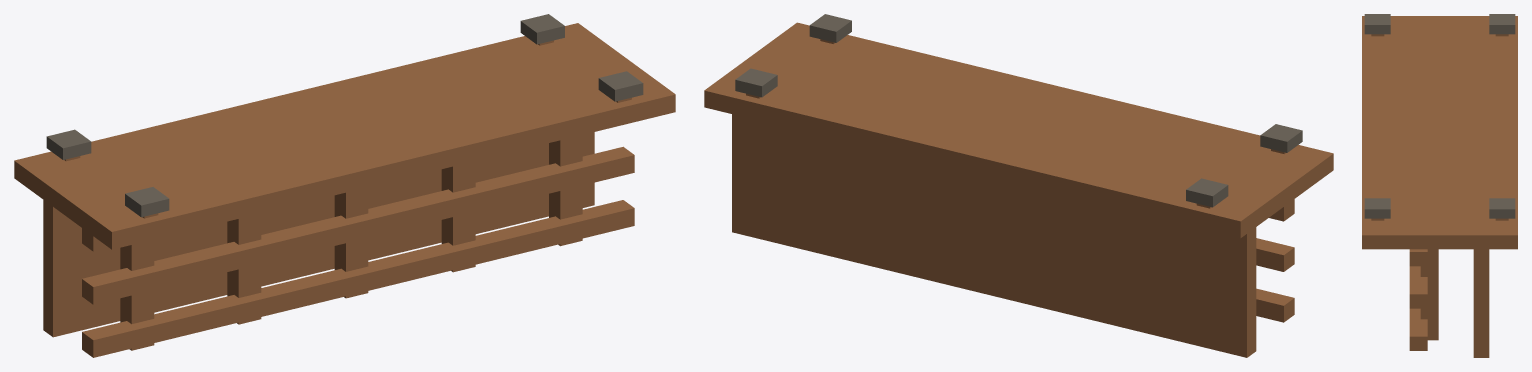
3 renders of one model, left to right at view 1: azimuth 30°, elevation 25°; view 2: azimuth 150°, elevation 25°; view 3: azimuth 270°, elevation 25°, orthographic. The views are drawn at different scales.
Visible parts, largest first — view 1: timber-top-rail, timber-backing, timber-horizontal-2, timber-horizontal-1, timber-vertical-1, timber-vertical-2, timber-vertical-3, timber-vertical-4, timber-vertical-5, ceiling-pad-right-front, ceiling-pad-left-back, ceiling-pad-right-back (+1 smaller); view 2: timber-backing, timber-top-rail, timber-horizontal-1, timber-horizontal-2, ceiling-pad-right-back, ceiling-pad-right-front, ceiling-pad-left-back, ceiling-pad-left-front; view 3: timber-top-rail, timber-backing, timber-vertical-5, timber-horizontal-2, timber-horizontal-1, ceiling-pad-right-front, ceiling-pad-right-back, ceiling-pad-left-front, ceiling-pad-left-back, timber-horizontal-3.
Boxes of the visible parts, <box> form: timber-top-rail: <box>14,23,675,249</box>; timber-backing: <box>43,132,594,337</box>; timber-horizontal-2: <box>82,146,634,304</box>; timber-horizontal-1: <box>82,200,634,357</box>; timber-vertical-1: <box>120,239,154,350</box>; timber-vertical-2: <box>227,213,261,324</box>; timber-vertical-3: <box>334,187,368,298</box>; timber-vertical-4: <box>441,161,475,272</box>; timber-vertical-5: <box>549,135,582,246</box>; ceiling-pad-right-front: <box>598,71,643,101</box>; ceiling-pad-left-back: <box>46,129,91,159</box>; ceiling-pad-right-back: <box>520,14,564,44</box>; timber-backing: <box>732,114,1256,357</box>; timber-top-rail: <box>704,22,1333,238</box>; timber-horizontal-1: <box>1256,288,1294,322</box>; timber-horizontal-2: <box>1256,238,1294,271</box>; ceiling-pad-right-back: <box>735,68,777,97</box>; ceiling-pad-right-front: <box>809,14,851,42</box>; ceiling-pad-left-back: <box>1186,178,1228,207</box>; ceiling-pad-left-front: <box>1260,124,1302,152</box>; timber-top-rail: <box>1362,16,1517,249</box>; timber-backing: <box>1473,249,1489,357</box>; timber-vertical-5: <box>1420,249,1438,340</box>; timber-horizontal-2: <box>1409,266,1427,308</box>; timber-horizontal-1: <box>1409,308,1427,350</box>; ceiling-pad-right-front: <box>1364,198,1390,218</box>; ceiling-pad-right-back: <box>1489,198,1515,218</box>; ceiling-pad-left-front: <box>1364,14,1390,34</box>; ceiling-pad-left-back: <box>1489,14,1515,34</box>; timber-horizontal-3: <box>1409,249,1427,266</box>.
Bounding box in the file's own units: 1 × 0.3 × 0.3.
